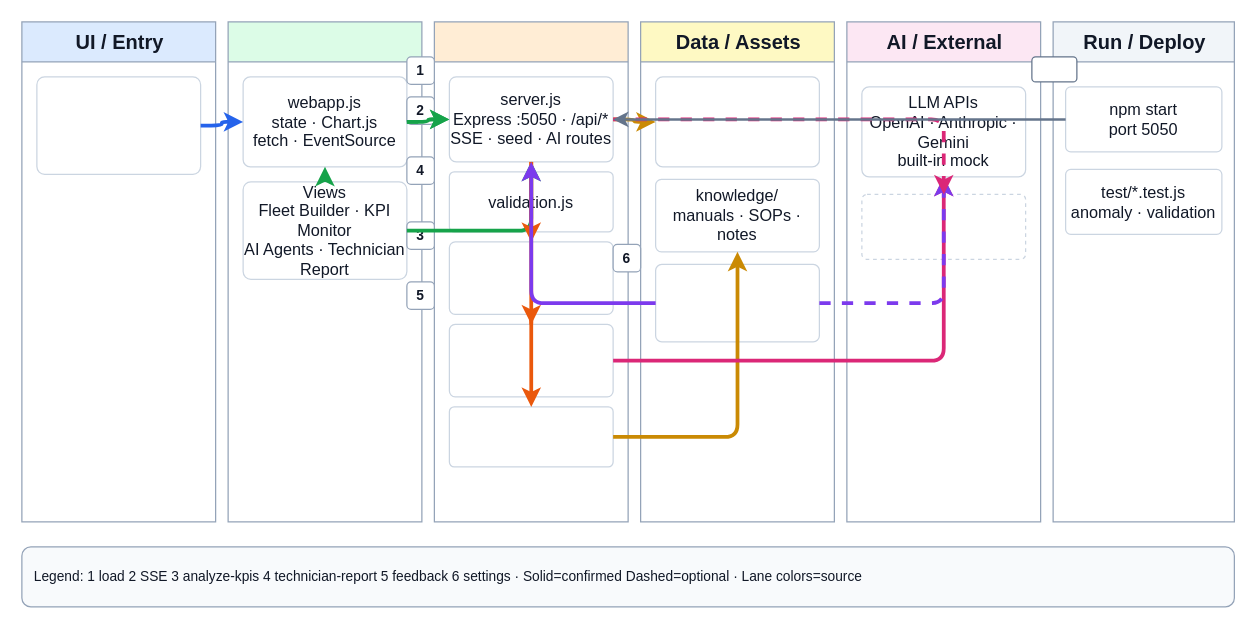
Some shapes in this 1256 by 629 pixel diagram are drawn without their labels. Here are the shapes that lost their labels. From the top down, the box of each, then its label:
(1031, 56, 1077, 82): runs
(36, 76, 201, 174): robotics_kpi_platform.html Nav · modals Agentic AI Builder DOM/CSS
(654, 76, 819, 167): In-memory robots · fleets · fleetHistory tickets · activeAgentsRuntime
(861, 193, 1026, 259): KPI / Robot APIs (Needs verification)
(227, 21, 422, 522): Client Logic
(433, 21, 628, 522): Backend / API
(448, 241, 613, 314): agentRuntime.js detectKpiAnomalies · tools
(654, 263, 819, 342): appSettings + .env BYOK · NORFLEET_ADMIN_TOKEN
(448, 323, 613, 397): aiProvider.js generateJson · multi-provider
(448, 406, 613, 467): ragMemory.js
